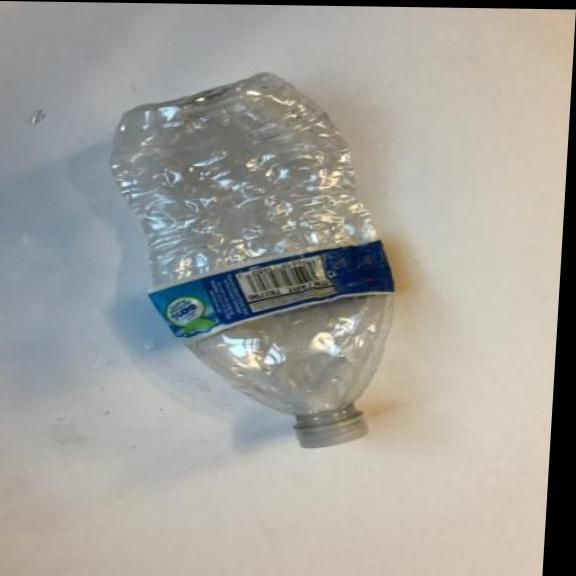Plastik: (84, 65, 429, 458)
